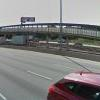Bridge: (2, 15, 95, 47)
